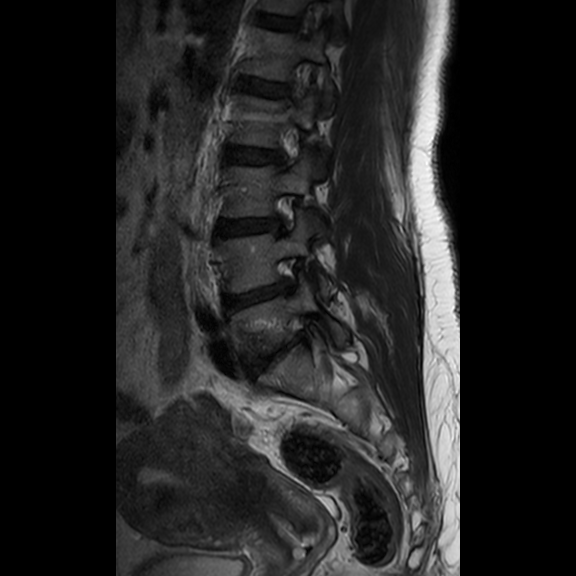LFS0: (264, 186, 316, 239), (267, 121, 317, 176), (282, 53, 330, 110)
LFS1: (266, 245, 321, 302)
